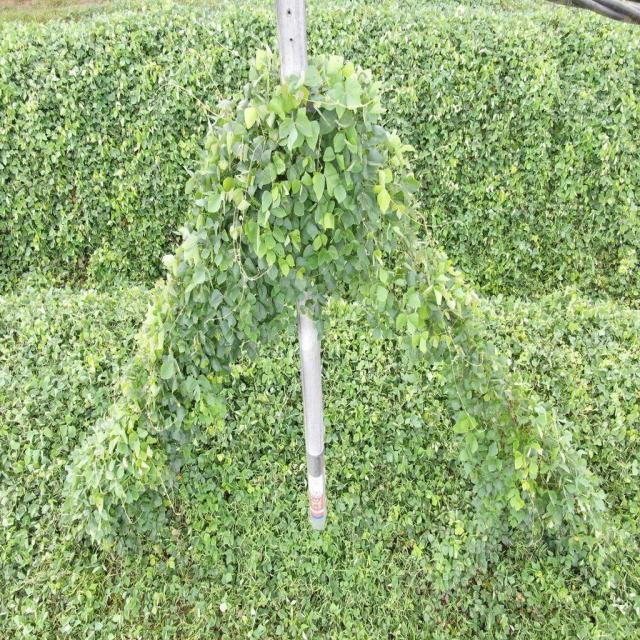critical vegetation: (320, 44, 616, 546), (58, 42, 312, 534)
